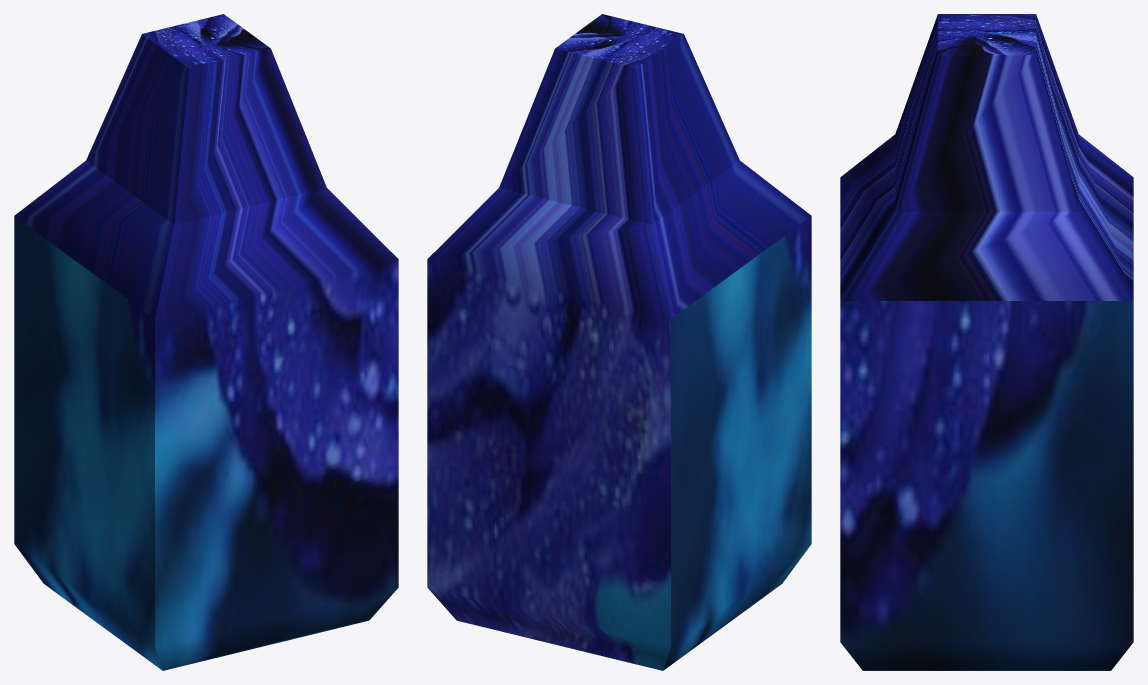
File: objectModel.obj
3 views of the same model, side by side, from view 1: azimuth 30°, elevation 25°; view 2: azimuth 150°, elevation 25°; view 3: azimuth 270°, elevation 25° (orthographic). The views are drawn at different scales.
Parts seen in each view (by area): view 1: pCube1; view 2: pCube1; view 3: pCube1.
Part boxes in pixels (bbox=[...]): pCube1: bbox=[14, 14, 398, 670]; pCube1: bbox=[427, 14, 811, 670]; pCube1: bbox=[840, 14, 1133, 670].
Bounding box in the file's own units: 1 × 2.2 × 1.
Materials: 1 (1 with a texture image).
